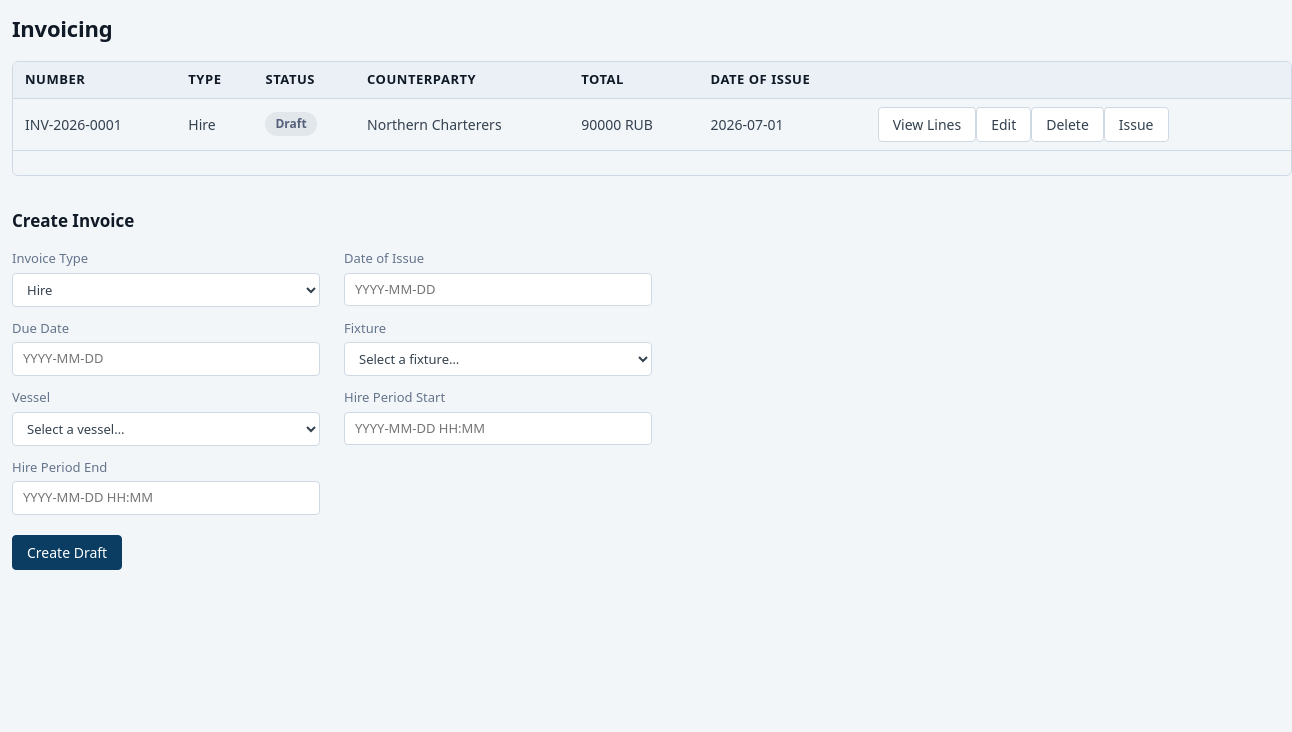
InvoicingPage › lets the operator issue a draft invoice
Expected: the text "INV-2026-0001" is shown, [13,98,176,150]
Click the button "Issue" at (1136, 124), box [1104,106,1168,142]
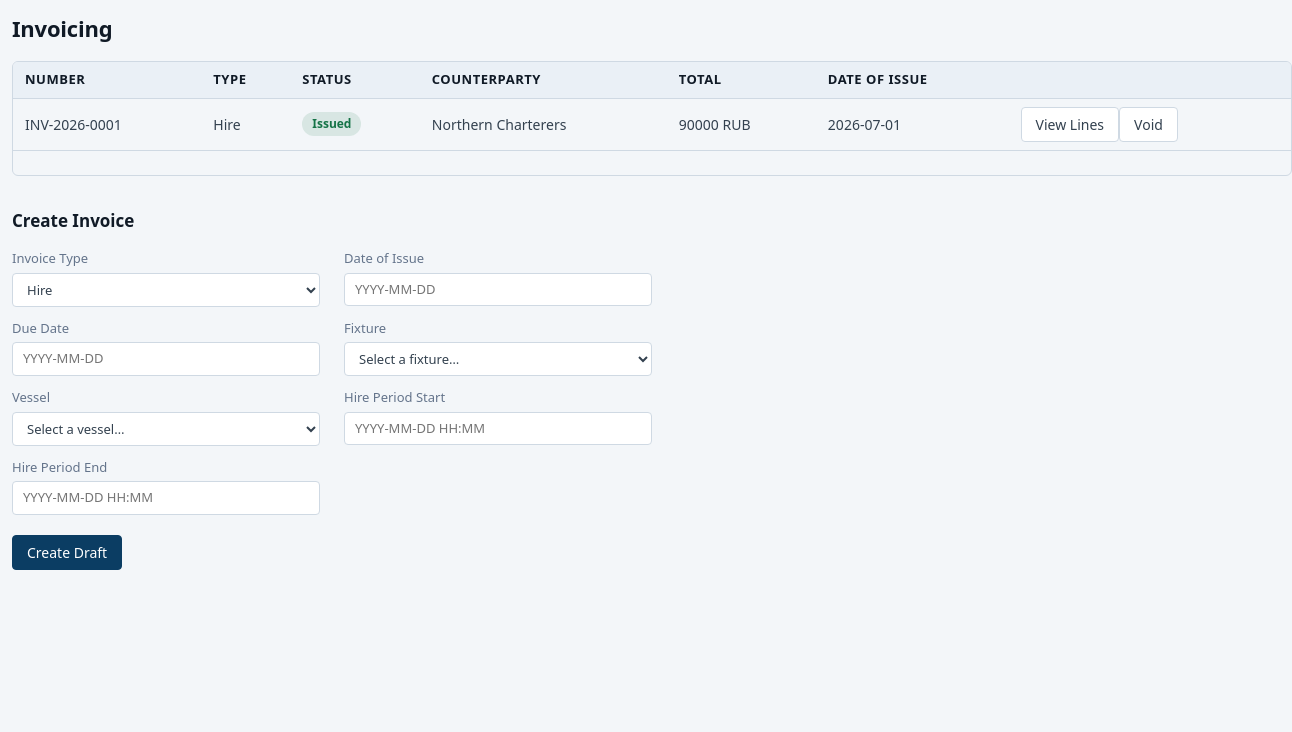
Expected: the text "Issued" is shown, [302,112,362,136]
